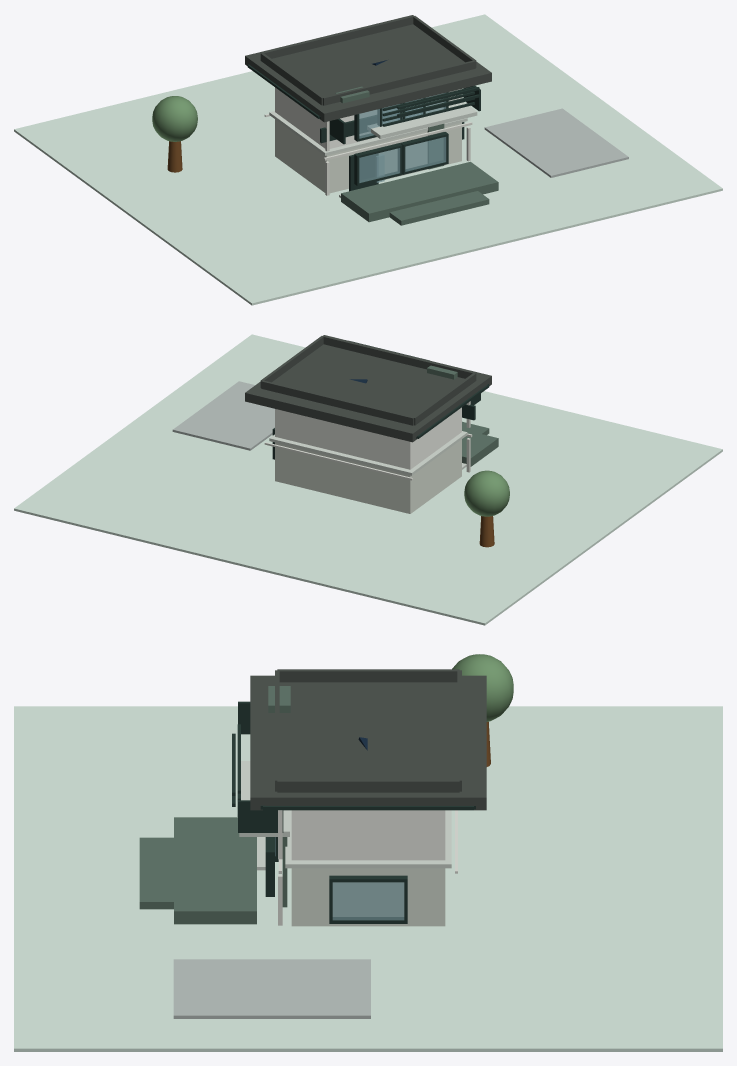
File: generated-shell-pnu-41450-002-compact-flat-studio-forest-timber.meshopt.glb
The picture shows the model from 3 angles, top to bottom: view 1: azimuth 30°, elevation 25°; view 2: azimuth 150°, elevation 25°; view 3: azimuth 270°, elevation 25°; orthographic projection. The views are drawn at different scales.
Parts seen in each view (by area): view 1: IfcSite_ServicePreviewBase, IfcRoof_FlatRoof, IfcSpace_ParkingPad, IfcSlab_shell-c1-PNU-41450-002-slab-block-front-deck-1ccdaf6, IfcBuildingElementProxy_FloorMass_L1, IfcWindow_Glass (×3), IfcGeographicElement_GardenTree, IfcBuildingElementProxy_FloorMass_L2, IfcSlab_DeckModule, IfcCovering_RoofParapetBack, IfcSlab_SecondFloorBalcony, IfcCovering_RoofParapetFront (+7 smaller); view 2: IfcSite_ServicePreviewBase, IfcRoof_FlatRoof, IfcBuildingElementProxy_FloorMass_L1, IfcBuildingElementProxy_FloorMass_L2, IfcSpace_ParkingPad, IfcGeographicElement_GardenTree, IfcCovering_RoofParapetBack, IfcSlab_LevelCap_L1, IfcCovering_RoofParapetFront, IfcSlab_shell-c1-PNU-41450-002-slab-block-front-deck-1ccdaf6, IfcCovering_RoofParapetLeft, IfcCovering_RoofParapetRight (+1 smaller); view 3: IfcSite_ServicePreviewBase, IfcRoof_FlatRoof, IfcSpace_ParkingPad, IfcSlab_shell-c1-PNU-41450-002-slab-block-front-deck-1ccdaf6, IfcBuildingElementProxy_FloorMass_L1, IfcBuildingElementProxy_FloorMass_L2, IfcWindow_Glass, IfcCovering_RoofParapetRight, IfcSlab_DeckModule, IfcCovering_RoofParapetLeft, IfcGeographicElement_GardenTree, IfcSlab_LevelCap_L1 (+3 smaller).
Boxes of the visible parts, x1,y1,x2,y2 form: IfcSite_ServicePreviewBase: (14, 14, 722, 305); IfcRoof_FlatRoof: (245, 15, 491, 122); IfcSpace_ParkingPad: (484, 108, 628, 177); IfcSlab_shell-c1-PNU-41450-002-slab-block-front-deck-1ccdaf6: (341, 161, 498, 222); IfcBuildingElementProxy_FloorMass_L1: (275, 119, 461, 193); IfcWindow_Glass (×3): (359, 104, 446, 182); IfcGeographicElement_GardenTree: (152, 96, 197, 172); IfcBuildingElementProxy_FloorMass_L2: (275, 87, 461, 148); IfcSlab_DeckModule: (389, 191, 489, 225); IfcCovering_RoofParapetBack: (261, 15, 413, 58); IfcSlab_SecondFloorBalcony: (367, 102, 477, 138); IfcCovering_RoofParapetFront: (323, 60, 475, 105); IfcSite_ServicePreviewBase: (14, 334, 722, 625); IfcRoof_FlatRoof: (245, 335, 491, 442); IfcBuildingElementProxy_FloorMass_L1: (275, 439, 461, 513); IfcBuildingElementProxy_FloorMass_L2: (275, 407, 461, 469); IfcSpace_ParkingPad: (172, 381, 274, 450); IfcGeographicElement_GardenTree: (464, 470, 509, 547); IfcCovering_RoofParapetBack: (261, 380, 413, 425); IfcSlab_LevelCap_L1: (269, 431, 467, 475); IfcCovering_RoofParapetFront: (323, 335, 475, 378); IfcSlab_shell-c1-PNU-41450-002-slab-block-front-deck-1ccdaf6: (462, 429, 498, 466); IfcCovering_RoofParapetLeft: (413, 373, 476, 425); IfcCovering_RoofParapetRight: (260, 336, 323, 387); IfcSite_ServicePreviewBase: (14, 706, 722, 1051); IfcRoof_FlatRoof: (250, 675, 486, 810); IfcSpace_ParkingPad: (173, 959, 370, 1018); IfcSlab_shell-c1-PNU-41450-002-slab-block-front-deck-1ccdaf6: (174, 817, 256, 924); IfcBuildingElementProxy_FloorMass_L1: (291, 868, 445, 926); IfcBuildingElementProxy_FloorMass_L2: (291, 810, 445, 860); IfcWindow_Glass: (332, 882, 404, 920); IfcCovering_RoofParapetRight: (277, 779, 459, 792); IfcSlab_DeckModule: (139, 837, 173, 909); IfcCovering_RoofParapetLeft: (277, 669, 459, 682); IfcGeographicElement_GardenTree: (452, 654, 513, 766); IfcSlab_LevelCap_L1: (285, 810, 451, 868).
Bounding box in the file's own units: 32 × 6.93 × 28.
